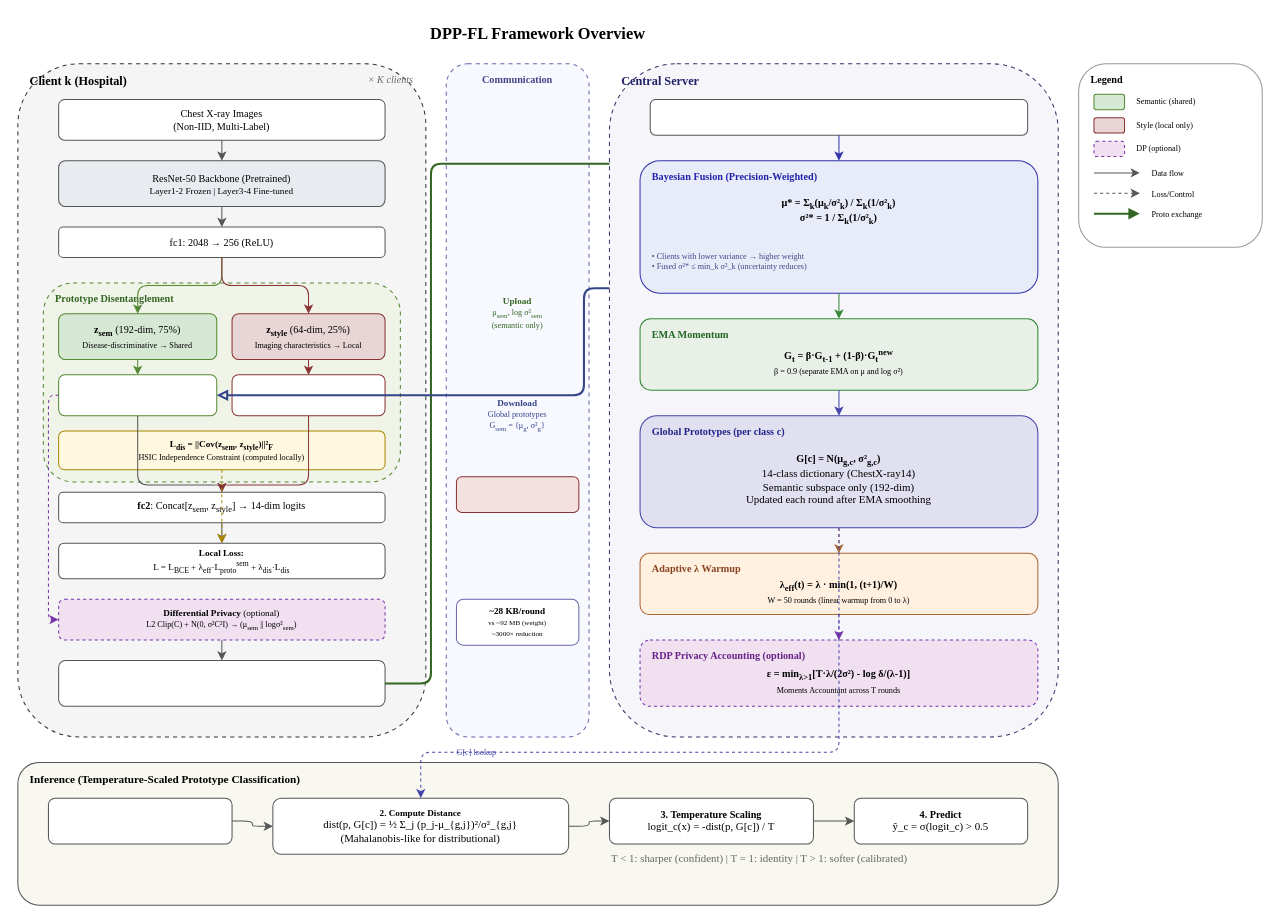
Some shapes in this 1280 by 923 pixel diagram are drawn without their labels. The shapes that lost their labels are listed below. From the top down, each one's centre as x and y in pixels, then its label:
(838,116): Receive {μ sem (k) , σ² sem (k) } from K clients
(137,395): ProbabilisticProtoHead μ sem , log σ² sem
(308,395): ProbabilisticProtoHead μ style , log σ² style
(517,494): Style stays local z style never uploaded
(221,682): Within-Client Aggregation μ_avg = mean(μ_i) σ²_avg = mean(σ²_i) + Var(μ_i)
(139,820): 1. Extract Prototype p = fc1(ResNet50(x_test))
